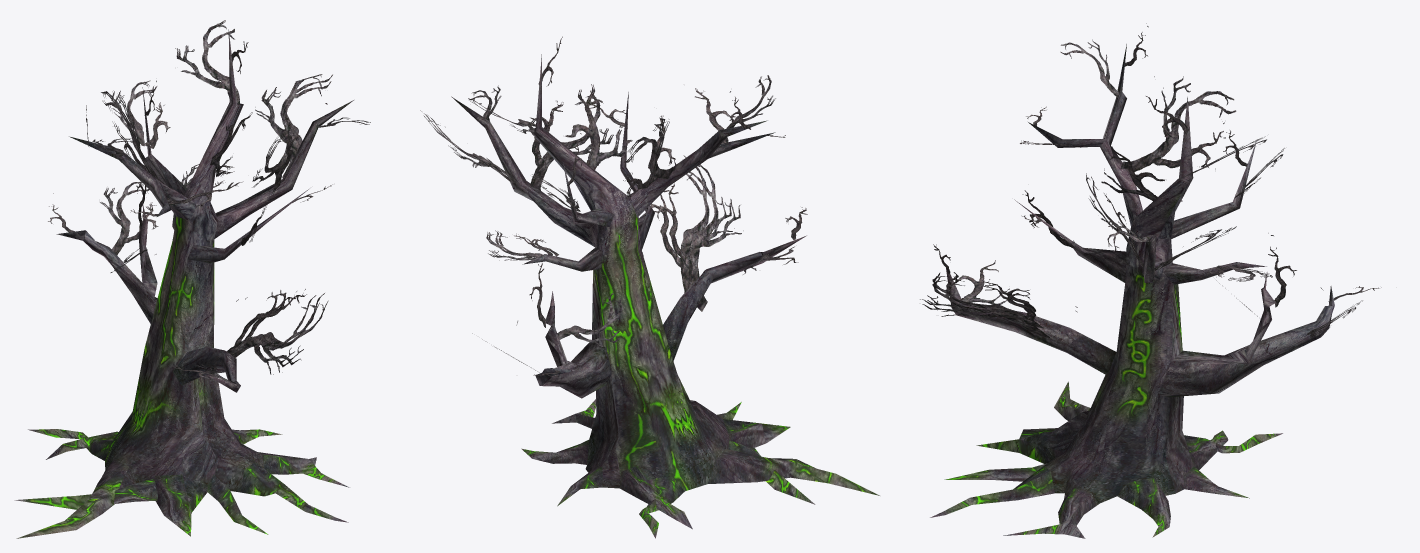
Rendered from environment_tree_yaoshu_05_a.FBX.
3 views of the same model, side by side, from view 1: azimuth 30°, elevation 25°; view 2: azimuth 150°, elevation 25°; view 3: azimuth 270°, elevation 25° (orthographic). The views are drawn at different scales.
Parts seen in each view (by area): view 1: environment_tree_yaoshu_05_a, environment_tree_yaoshu_05_b; view 2: environment_tree_yaoshu_05_a, environment_tree_yaoshu_05_b; view 3: environment_tree_yaoshu_05_a, environment_tree_yaoshu_05_b.
Part boxes in pixels (x1,y1,x2,y2): environment_tree_yaoshu_05_a: (14,29,353,538); environment_tree_yaoshu_05_b: (48,20,370,382); environment_tree_yaoshu_05_a: (451,54,879,538); environment_tree_yaoshu_05_b: (420,36,807,377); environment_tree_yaoshu_05_a: (930,44,1334,538); environment_tree_yaoshu_05_b: (920,23,1381,340).
Bounding box in the file's own units: 338 × 350 × 354.
2 materials, 2 textured.
